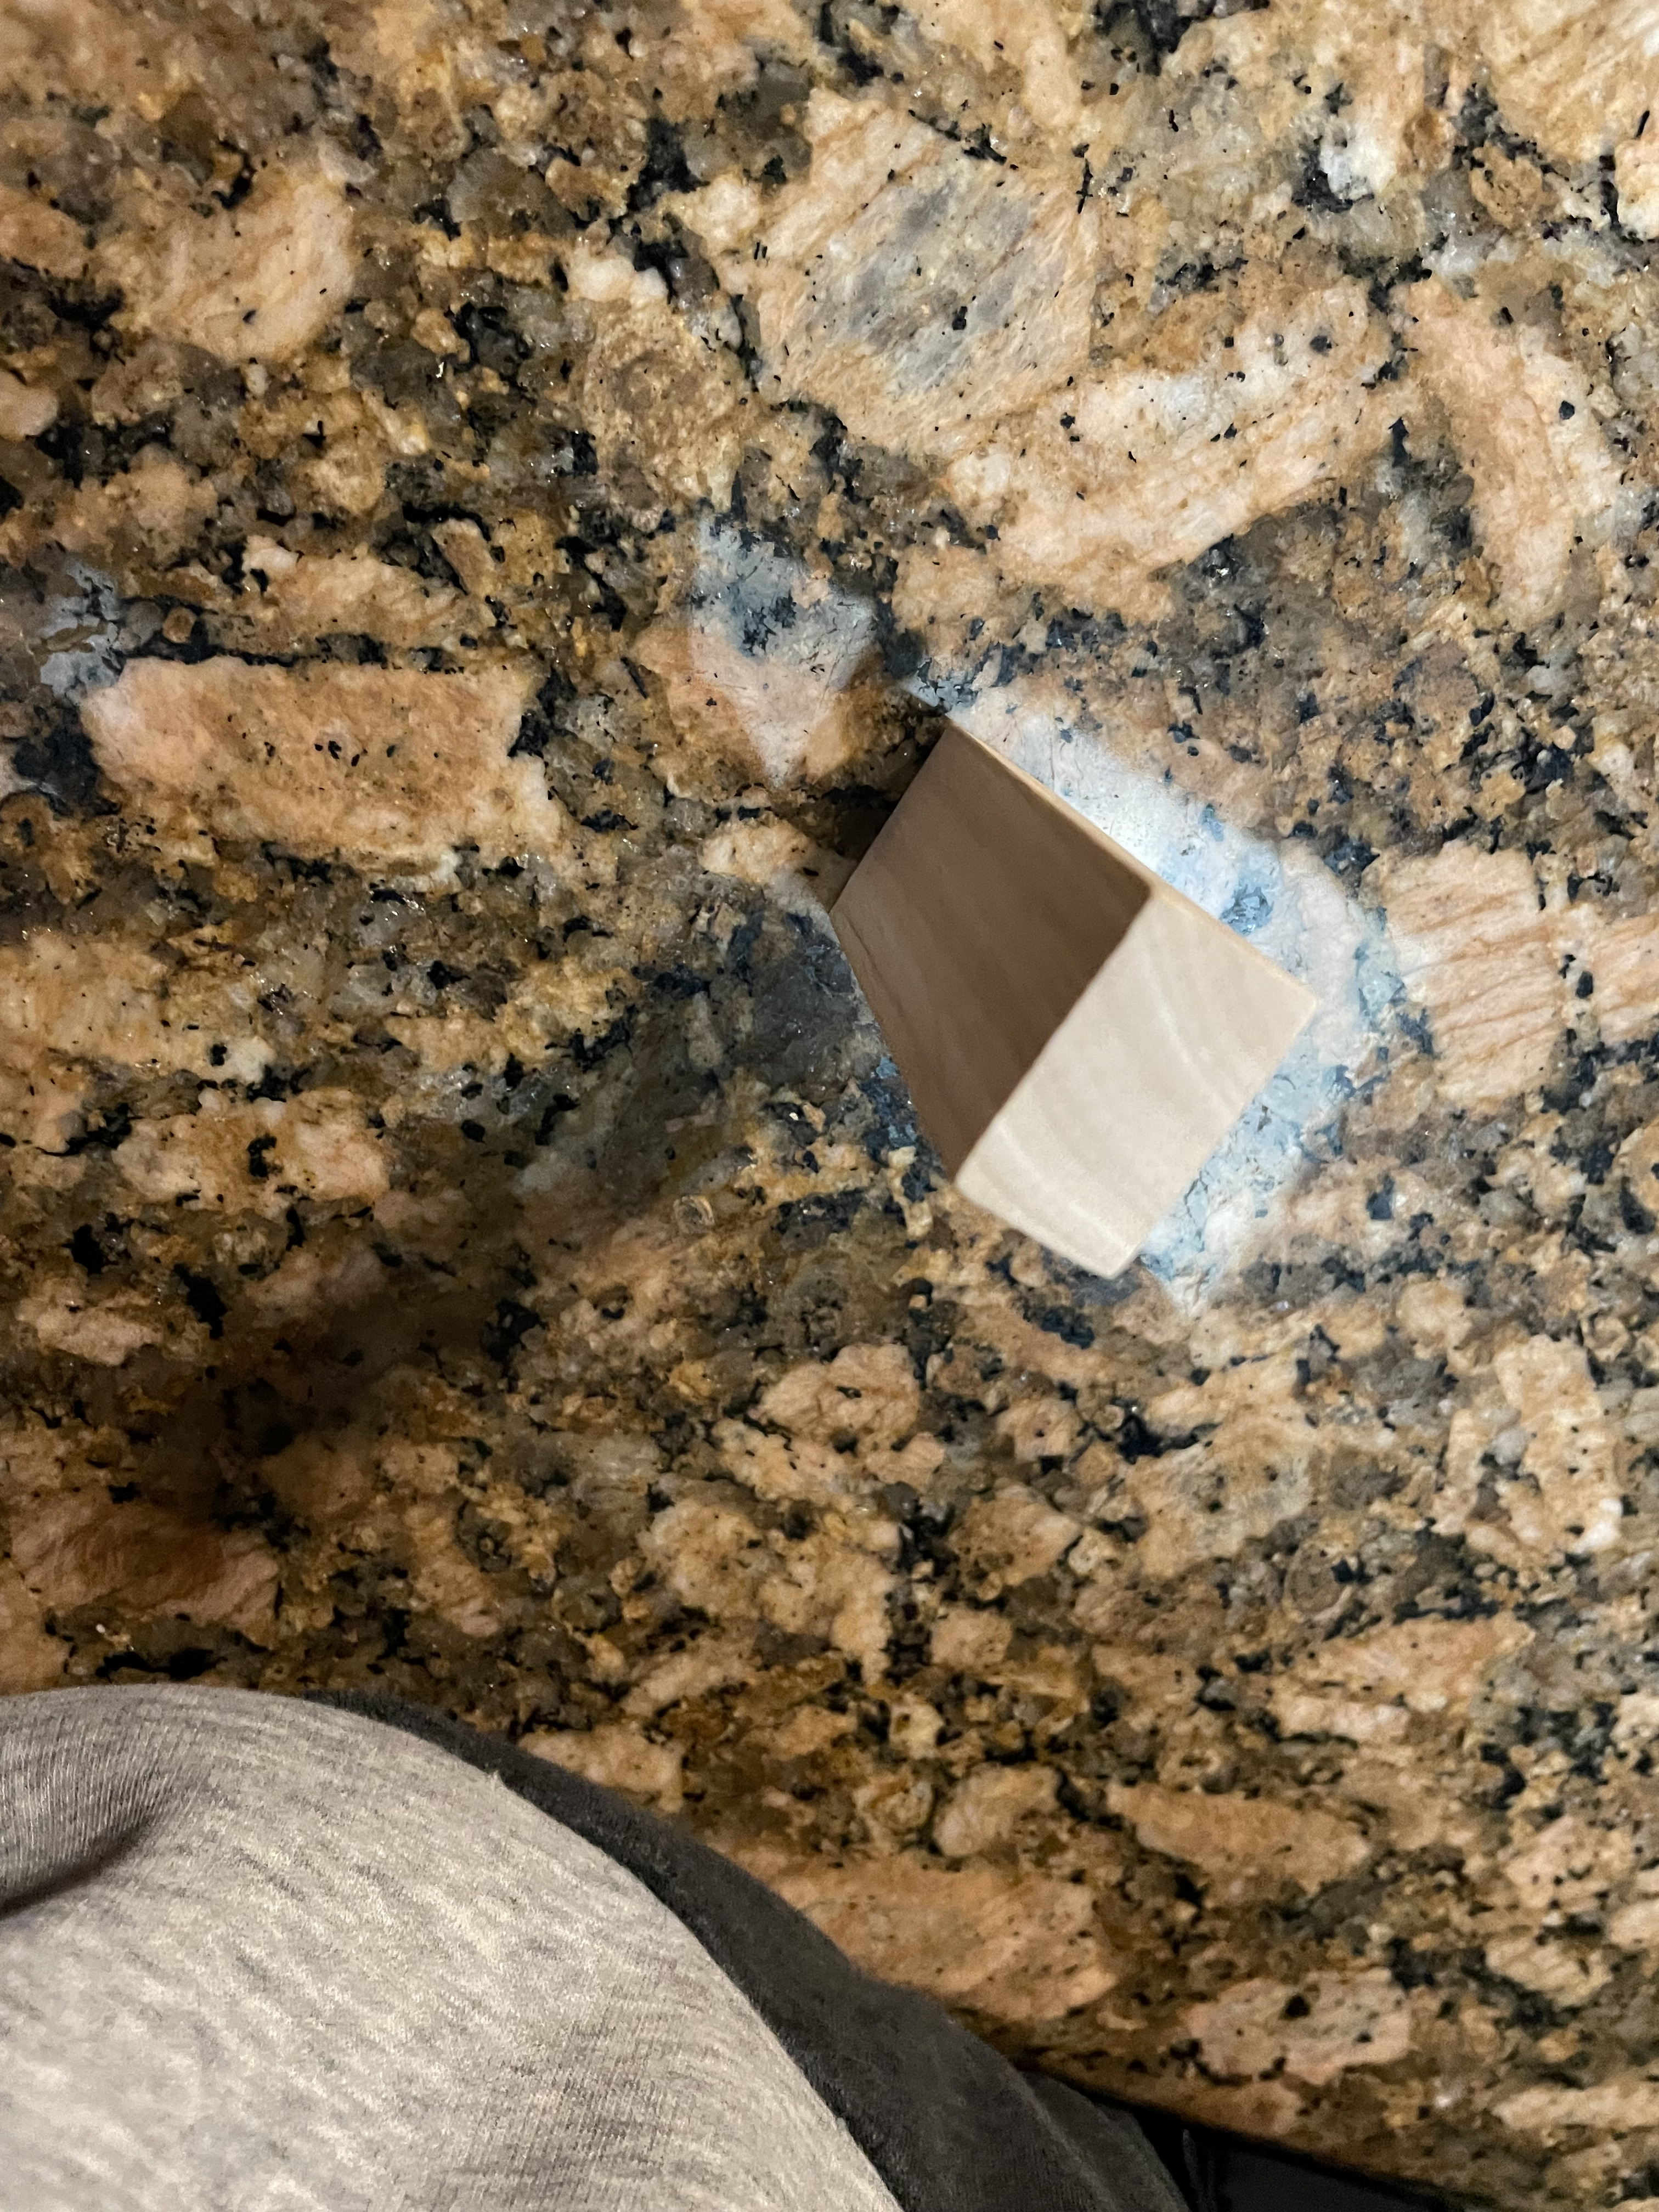jenga: (748, 693, 1317, 1249)
